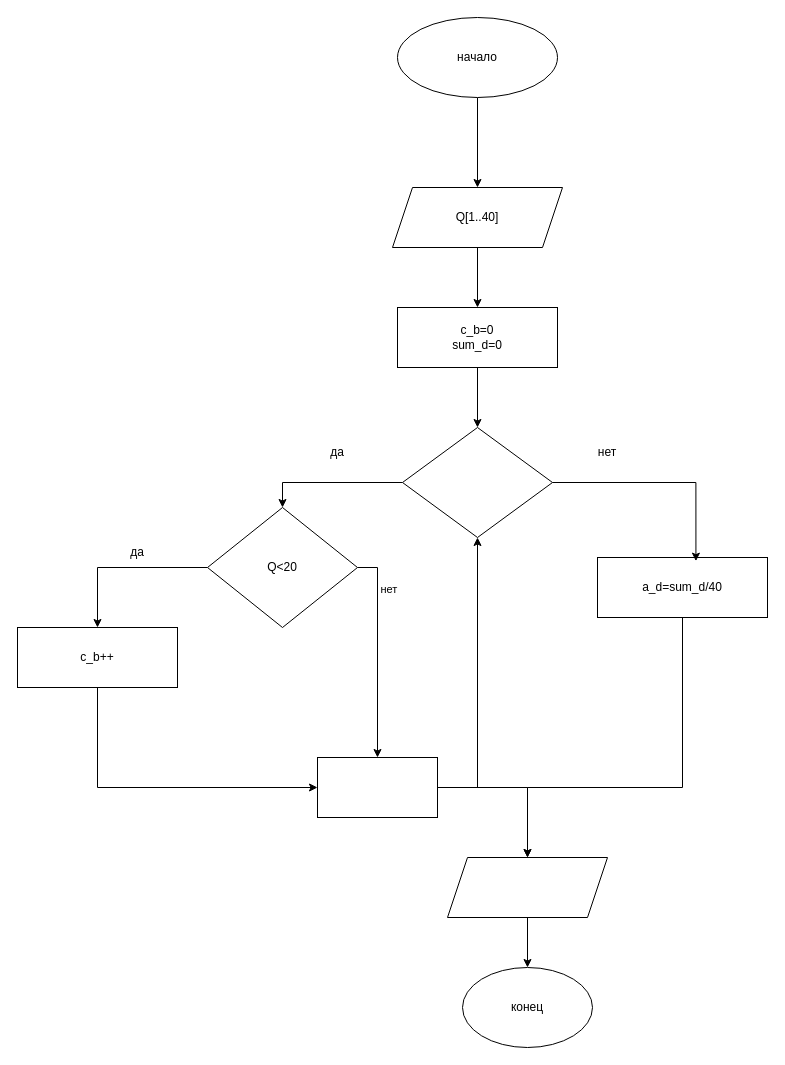
Some shapes in this 785 by 1065 pixel diagram are drawn without their labels. The centre of each missing label's shape, as x and y in pixels:
i=1; i<=40; i++: the point at 477,482
sum_d=sum_d+(Q-50): the point at 377,787
Вывод : c_b, a_d: the point at 527,887
